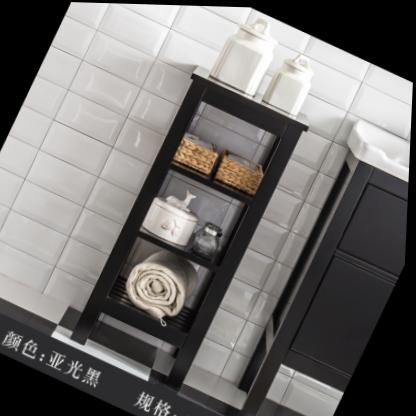Cupboard: (74, 70, 309, 388)
